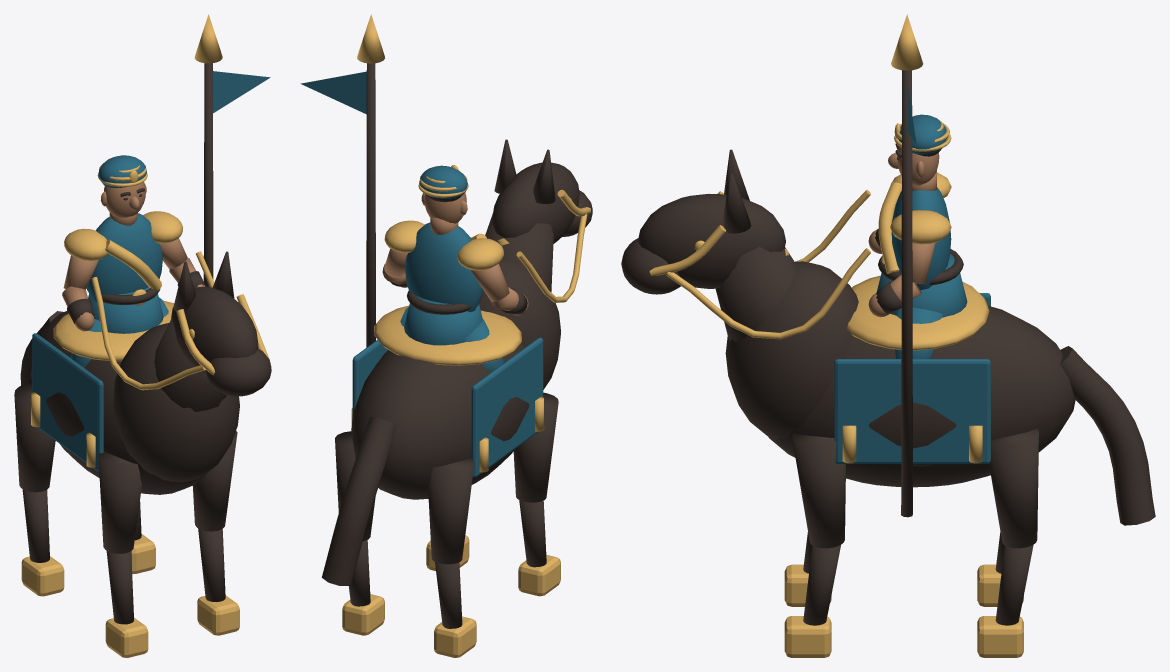
File: rider.glb
3 renders of one model, left to right at view 1: azimuth 30°, elevation 25°; view 2: azimuth 150°, elevation 25°; view 3: azimuth 270°, elevation 25°, orthographic. The views are drawn at different scales.
Parts seen in each view (by area): view 1: rider; view 2: rider; view 3: rider.
Part boxes in pixels (bbox=[...]): rider: bbox=[14, 14, 271, 657]; rider: bbox=[300, 14, 592, 657]; rider: bbox=[621, 14, 1155, 657].
Size of the model in its own units: 1.03 by 2.64 by 1.94.
